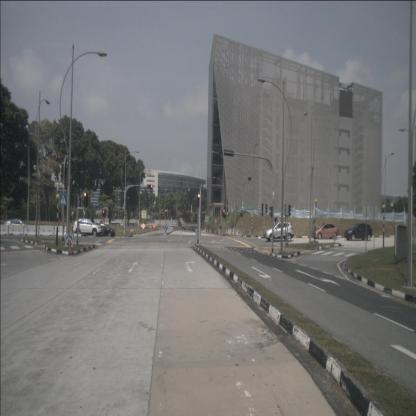movable_object-trafficcone: (68, 235, 72, 252)
vehicle-car: (264, 222, 294, 242), (72, 218, 102, 237), (344, 223, 373, 241), (312, 223, 340, 240), (92, 223, 116, 237), (4, 219, 28, 233)
